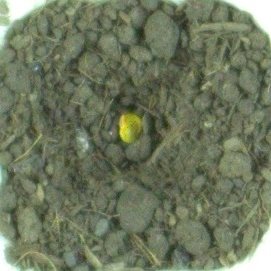chilli seed: (117, 111, 146, 145)
